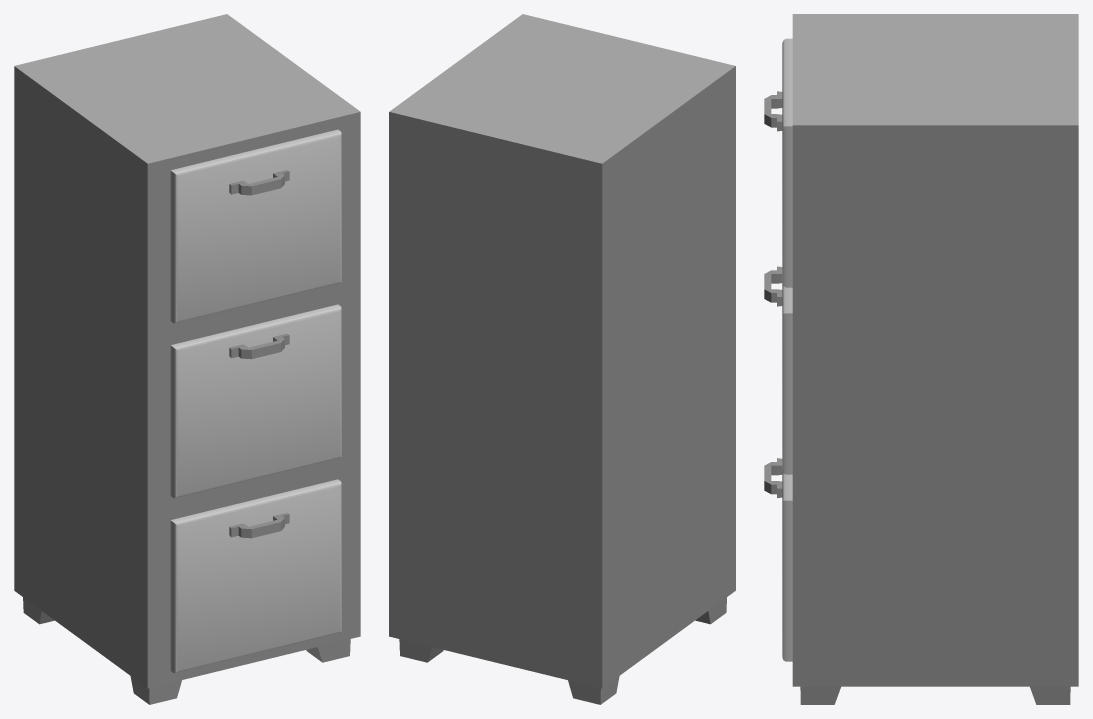
File: Estante.fbx
3 views of the same model, side by side, from view 1: azimuth 30°, elevation 25°; view 2: azimuth 150°, elevation 25°; view 3: azimuth 270°, elevation 25° (orthographic). The views are drawn at different scales.
Visible parts, largest first — view 1: Estante; view 2: Estante; view 3: Estante.
Part boxes in pixels (box(x1,y1,x2,y2)): Estante: box(14, 14, 360, 704); Estante: box(389, 14, 735, 704); Estante: box(764, 14, 1078, 704).
Bounding box in the file's own units: 64.84 × 159 × 77.42.
